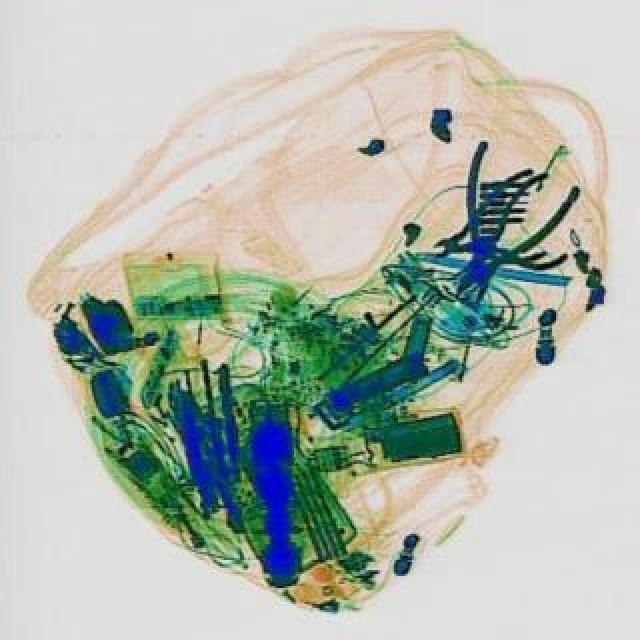wrench: (410, 136, 582, 322), (418, 164, 566, 288)
